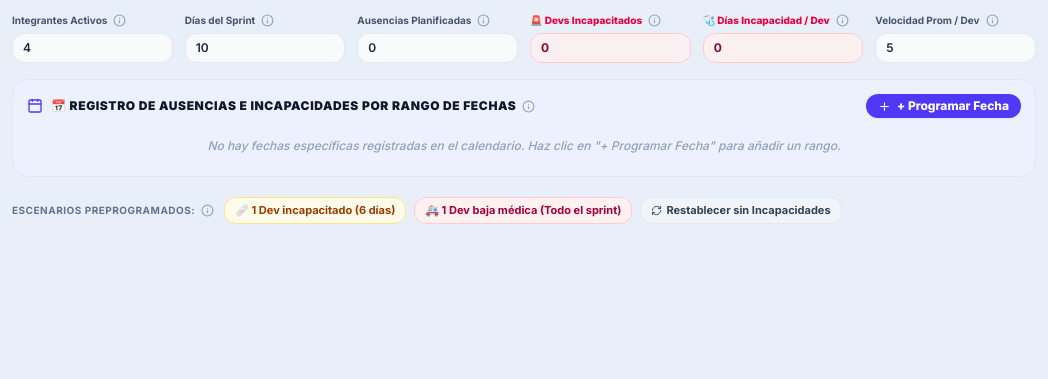
Test: CapacityForm › toggles calendar form
The width and height of the screenshot is (1048, 379).
Click the button "+ Programar Fecha".
click(944, 106)  # box [866,94,1021,118]
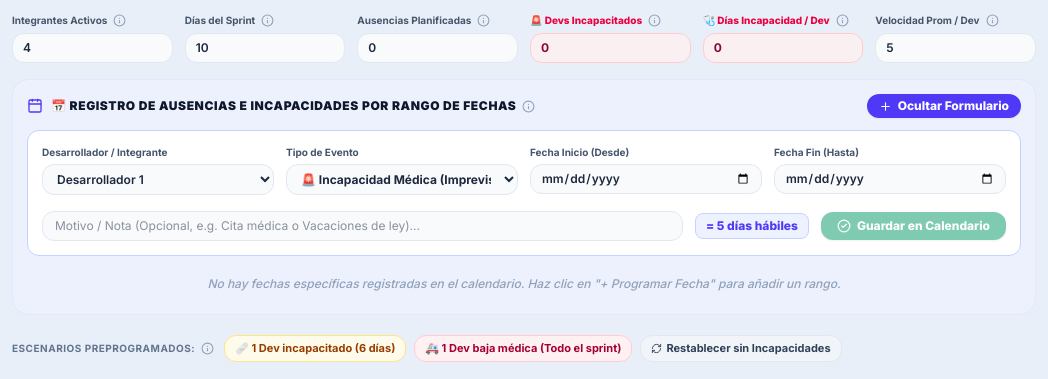
Expected: the text "Ocultar Formulario" is shown, [898,98,1009,114]
Click the button "Ocultar Formulario".
click(944, 106)  # box [867,94,1021,118]
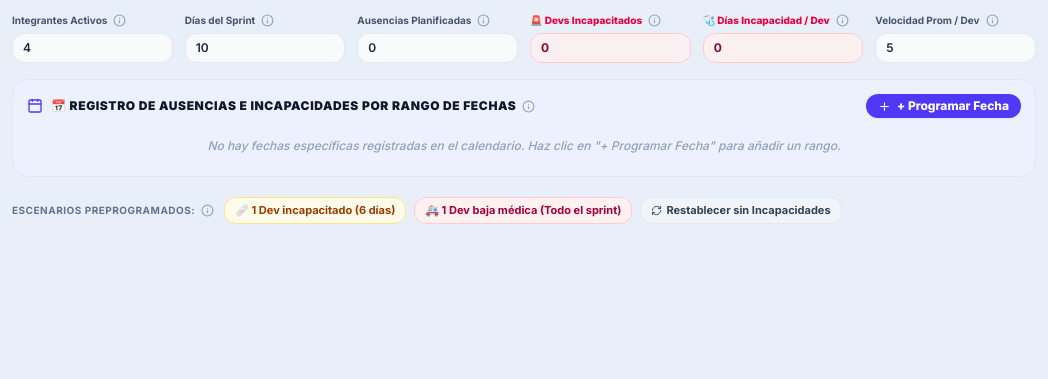
Expected: the text "+ Programar Fecha" is shown, [897,98,1009,114]
